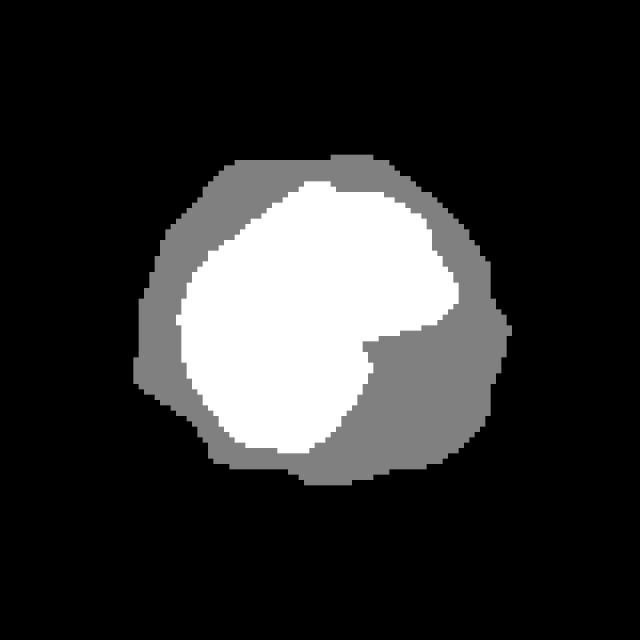WBC: (101, 134, 523, 502)
